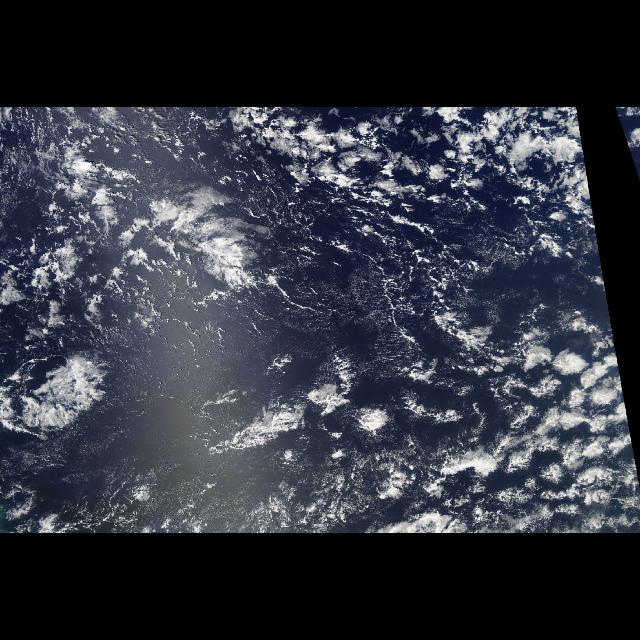Flower: (1, 108, 610, 306), (231, 311, 639, 534), (614, 107, 638, 187)
